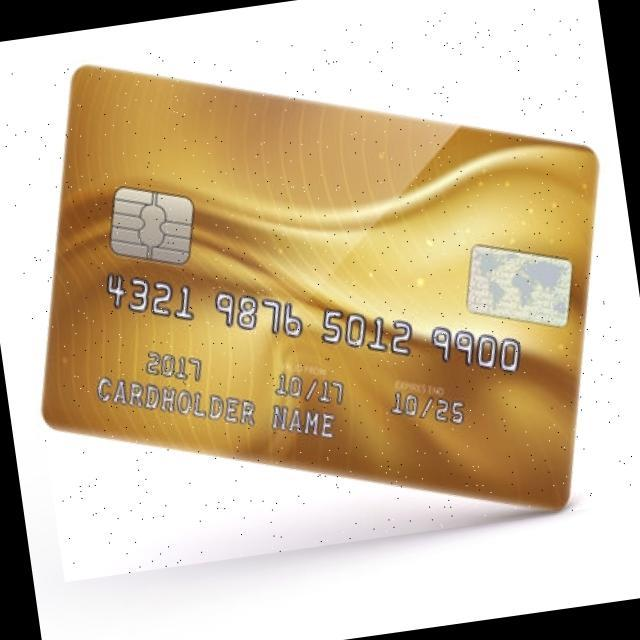payment_card: (41, 66, 598, 511)
